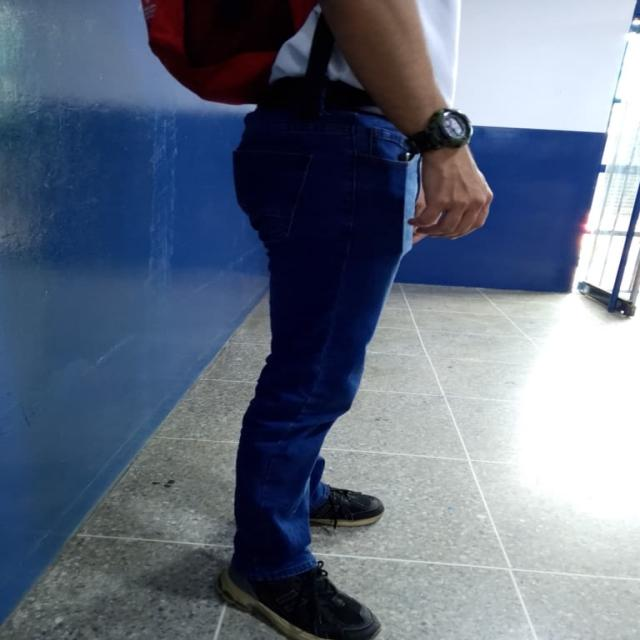pantalon_oscuro: (230, 102, 422, 582)
